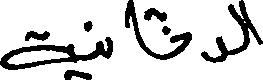X: (0, 26, 72, 79), (230, 0, 244, 59), (129, 0, 144, 55), (169, 23, 189, 63), (203, 31, 224, 67), (246, 7, 262, 53), (95, 36, 102, 62), (107, 32, 112, 63)
